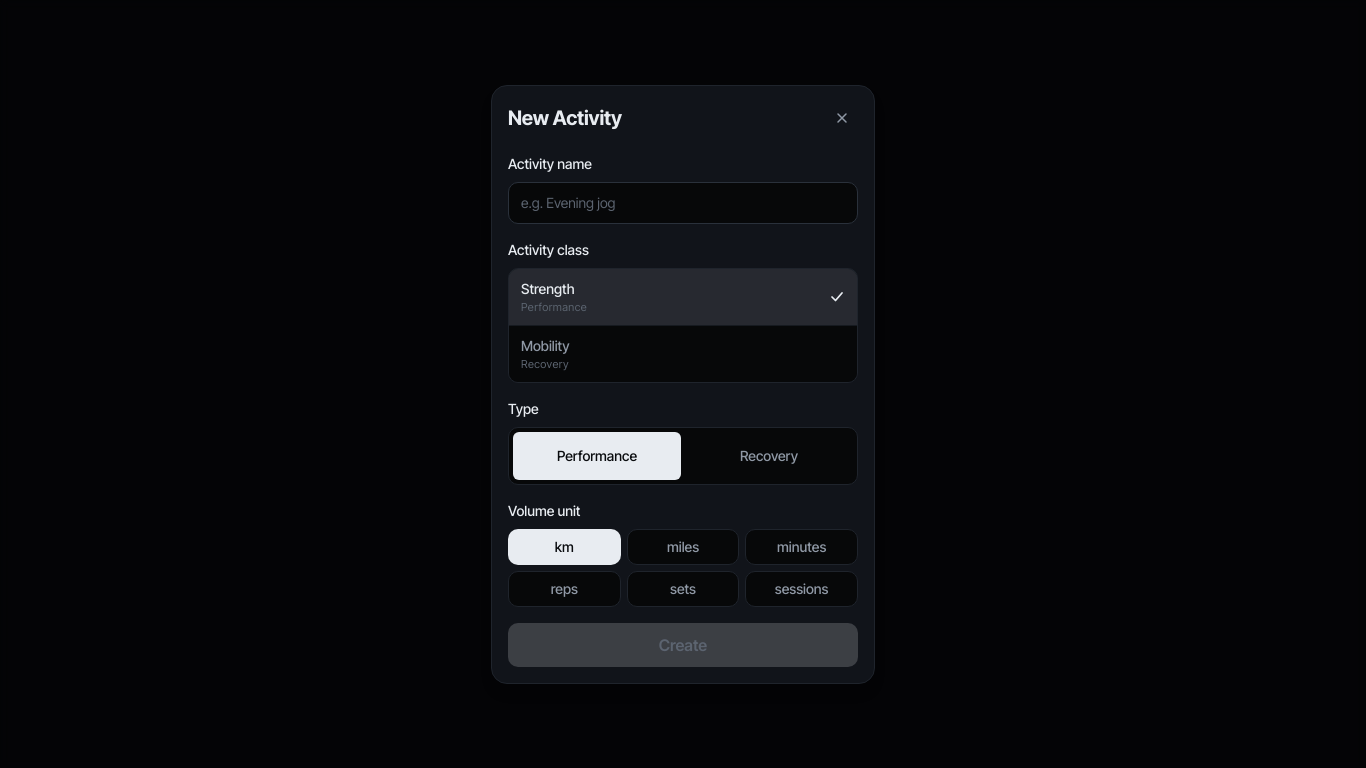
Test: NewActivitySheet — submit disabled guard › enables Create once name has non-whitespace content and a class is selected
This screenshot has width=1366, height=768.
// First class is selected by default
Step 1. Type "Yoga" into the field named "activity name" → (683, 202), box [508,182,858,224]
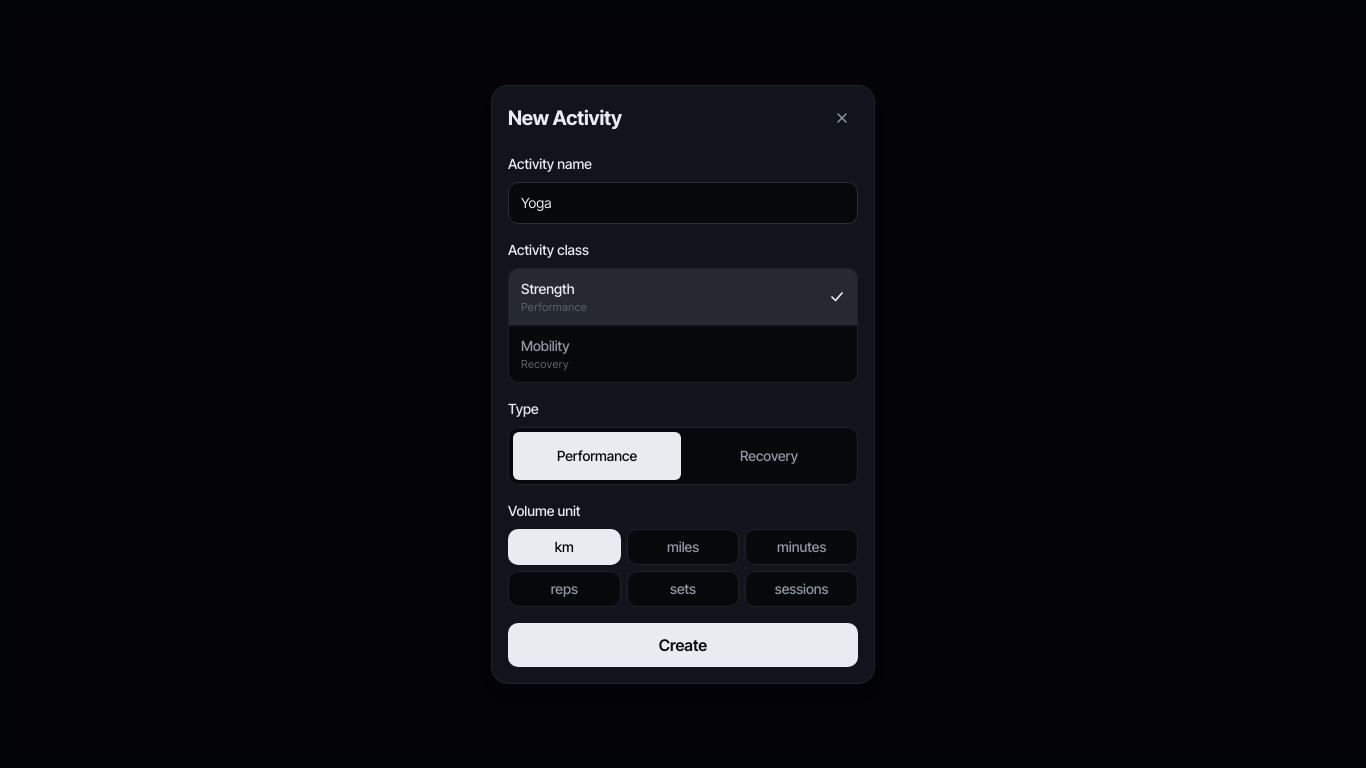
Check: the button "Create" is enabled, box [508,622,858,666]
